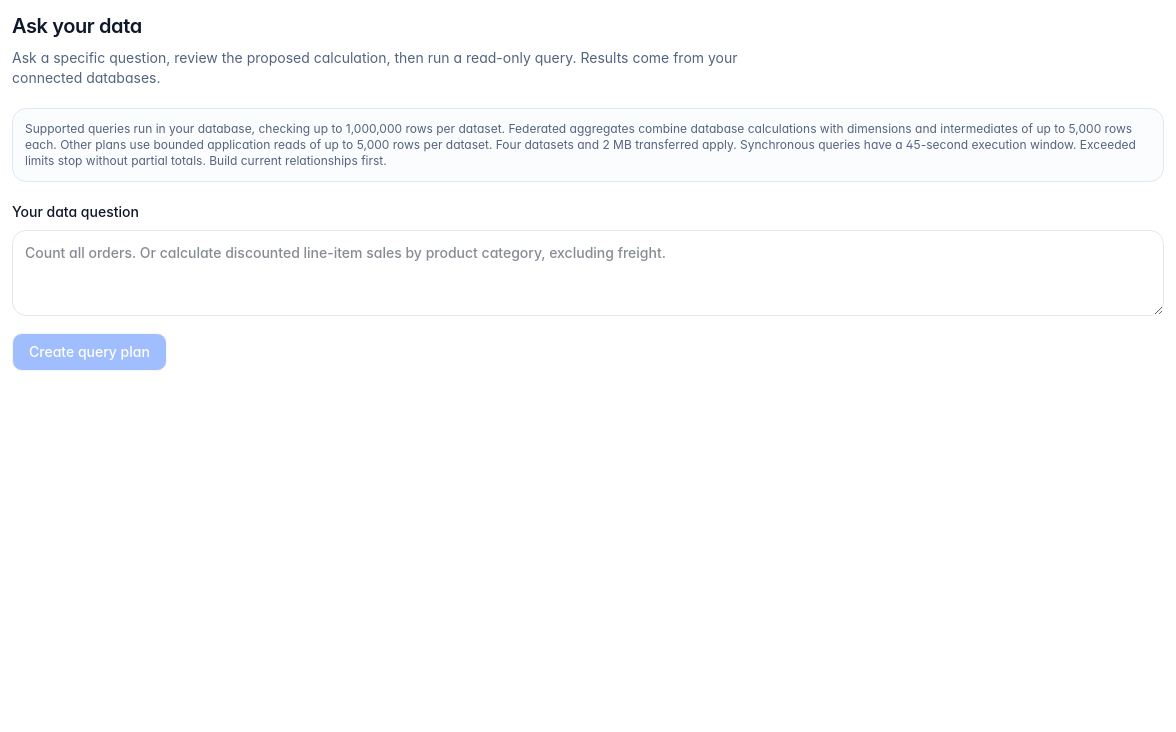
Scenario: reviews a grounded plan before executing and shows evidence
Later steps or results of the test are not shown.
Expected: the button "Create query plan" is disabled, left=12, top=333, right=167, bottom=371
Replace the text in the text box labelled "Your data question" with "Count orders" at [588, 273], box left=12, top=230, right=1164, bottom=316
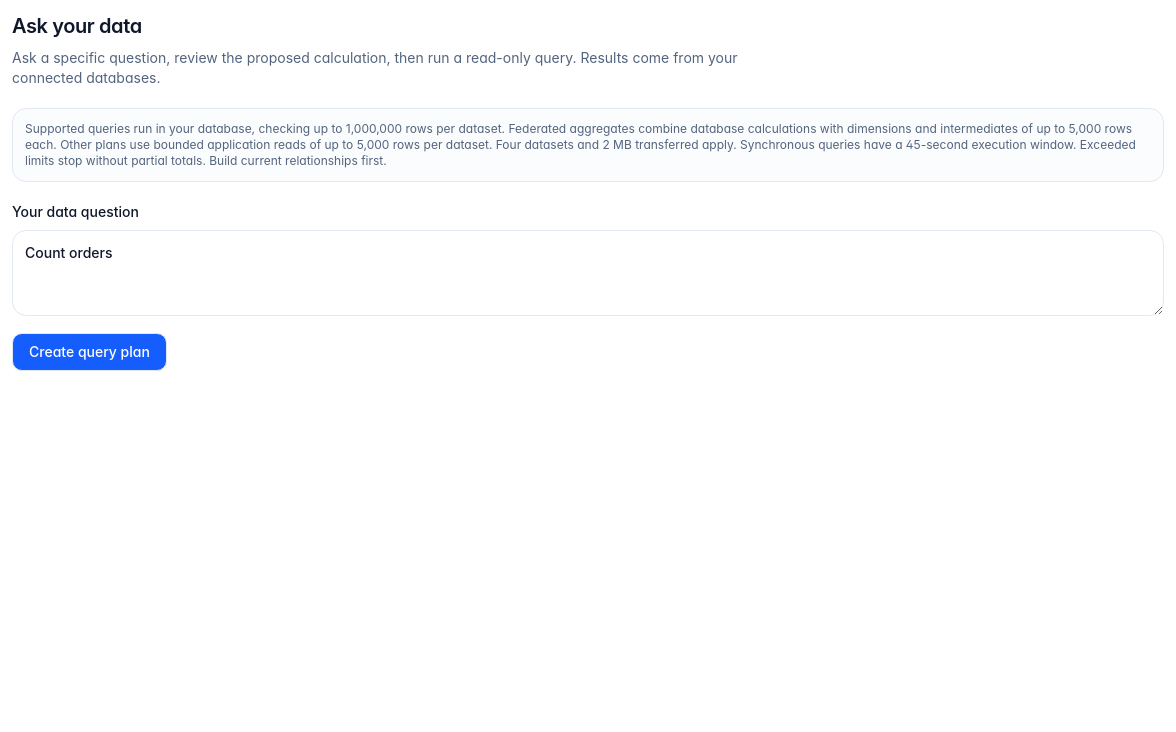
Expected: the button "Create query plan" is enabled
Click the button "Create query plan" at [89, 352], box left=12, top=333, right=167, bottom=371
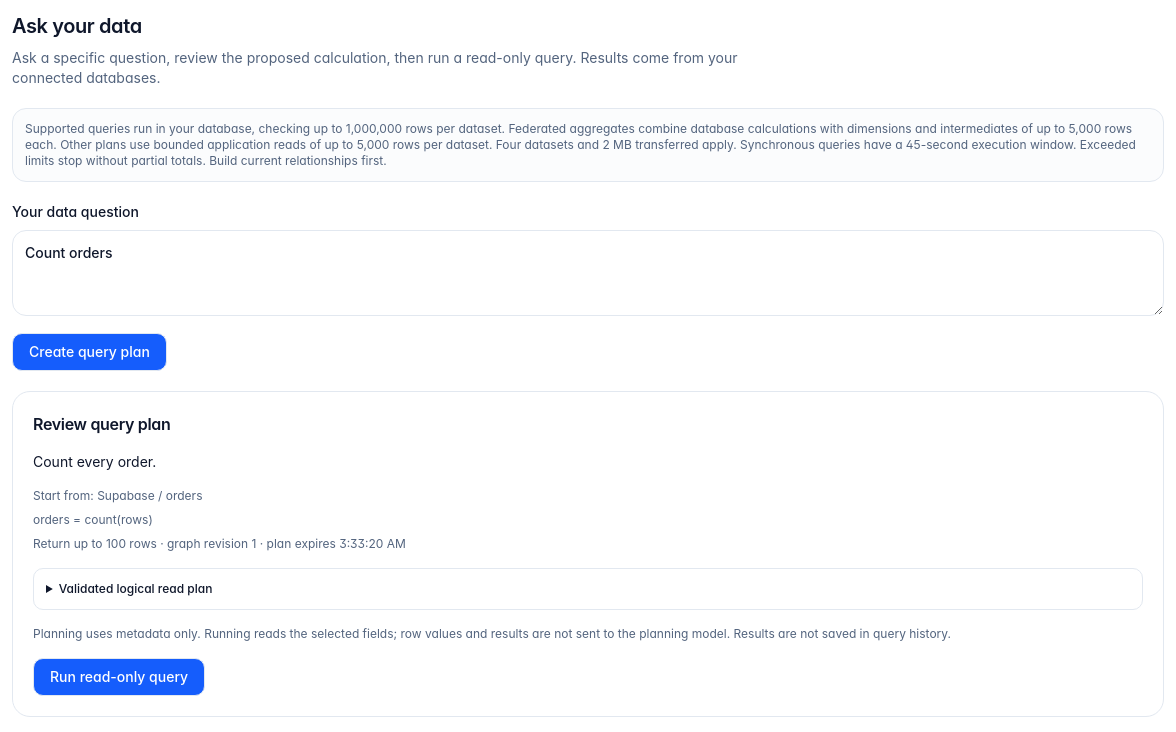
Expected: the heading "Review query plan" is shown, left=33, top=414, right=170, bottom=434
